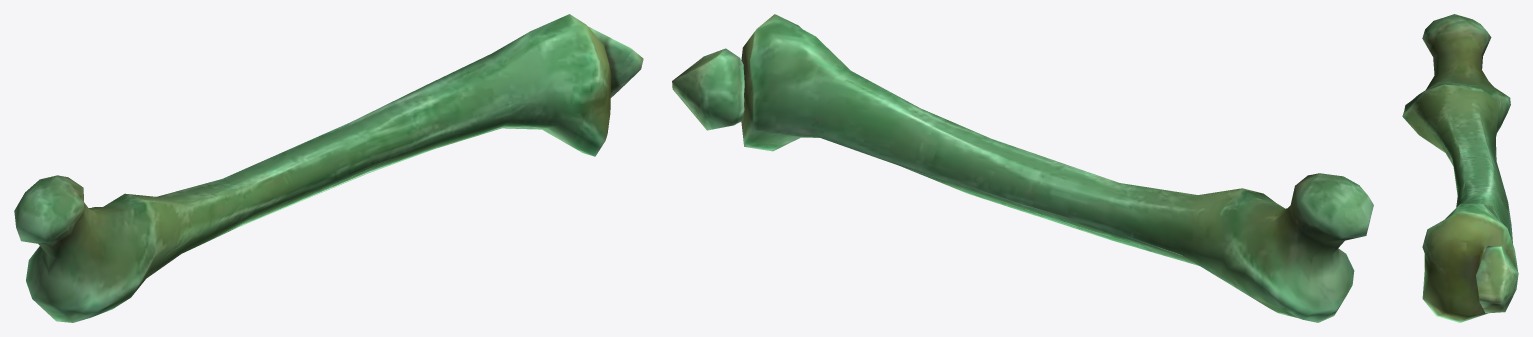
3 renders of one model, left to right at view 1: azimuth 30°, elevation 25°; view 2: azimuth 150°, elevation 25°; view 3: azimuth 270°, elevation 25°, orthographic. The views are drawn at different scales.
Visible parts, largest first — view 1: SM_U_MED_Skeleton_Human_spine_02_LOD0; view 2: SM_U_MED_Skeleton_Human_spine_02_LOD0; view 3: SM_U_MED_Skeleton_Human_spine_02_LOD0.
Part boxes in pixels (x1,y1,x2,y2): SM_U_MED_Skeleton_Human_spine_02_LOD0: (14,14,643,322); SM_U_MED_Skeleton_Human_spine_02_LOD0: (672,14,1373,322); SM_U_MED_Skeleton_Human_spine_02_LOD0: (1402,14,1518,322).
Bounding box in the file's own units: 0.5118 × 0.1249 × 0.0949.
